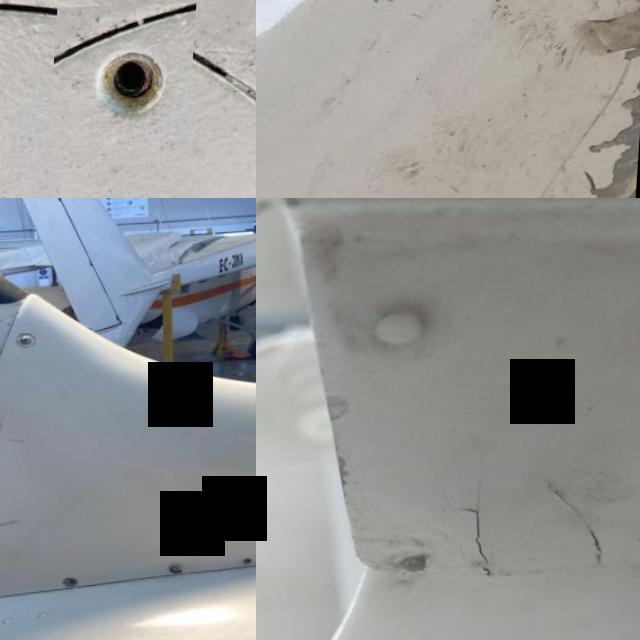Crack: (445, 427, 640, 600)
Missing_Fastener: (52, 7, 200, 161), (70, 578, 86, 590), (247, 559, 256, 568)
